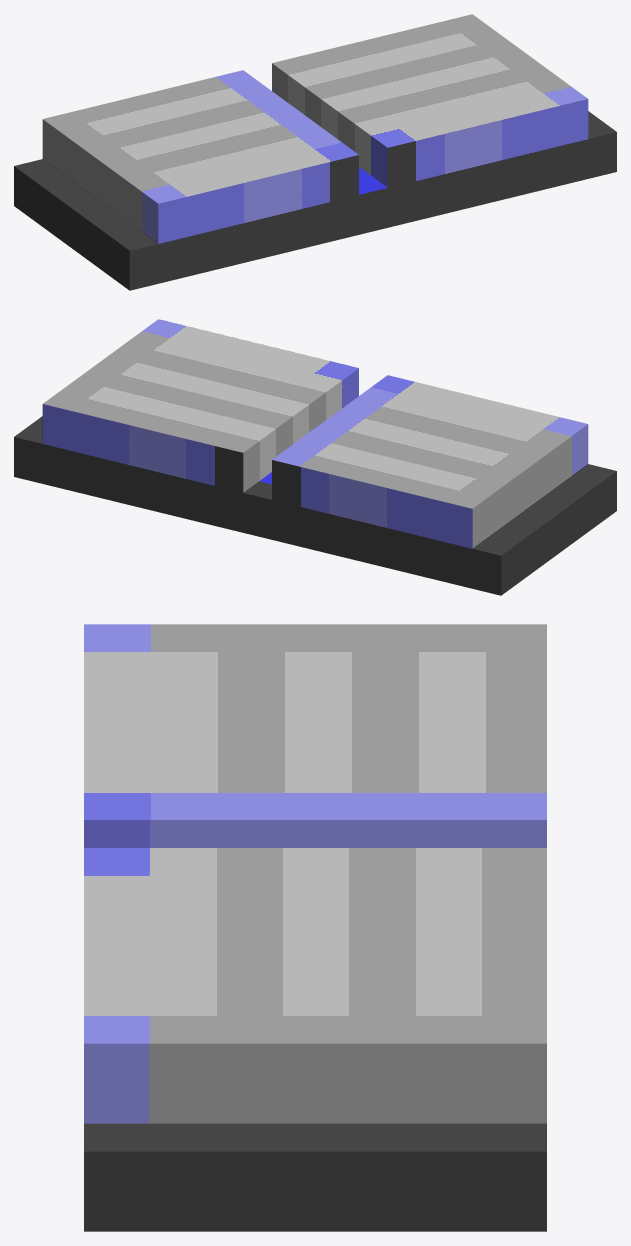
File: book_0x282_12.glb
The picture shows the model from 3 angles, top to bottom: view 1: azimuth 30°, elevation 25°; view 2: azimuth 150°, elevation 25°; view 3: azimuth 270°, elevation 25°; orthographic projection. The views are drawn at different scales.
Visible parts, largest first — view 1: Cube.001; view 2: Cube.001; view 3: Cube.001.
Part boxes in pixels (x1=…): Cube.001: x1=14, y1=14, x2=616, y2=290; Cube.001: x1=14, y1=319, x2=616, y2=595; Cube.001: x1=84, y1=624, x2=546, y2=1231.
Bounding box in the file's own units: 1.06 × 0.1667 × 0.4375.
1 material, 1 textured.
